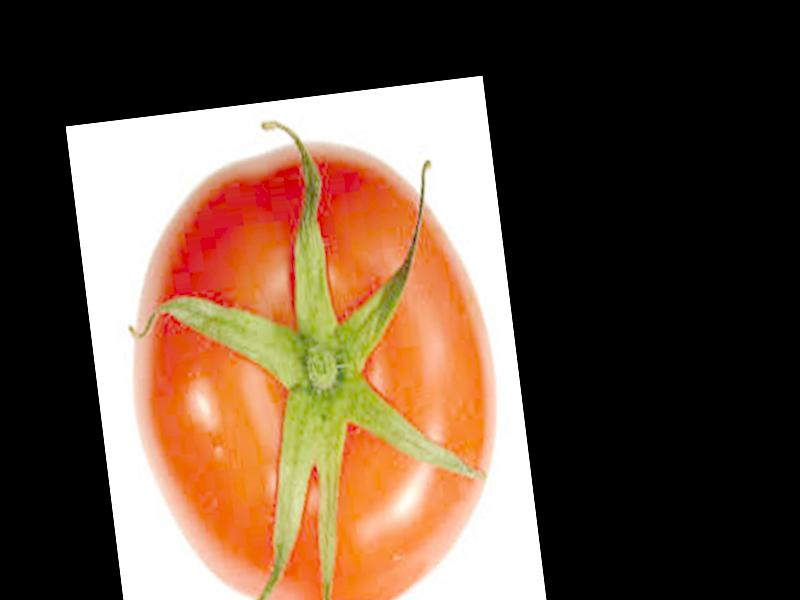Tomato: (108, 123, 521, 600)
